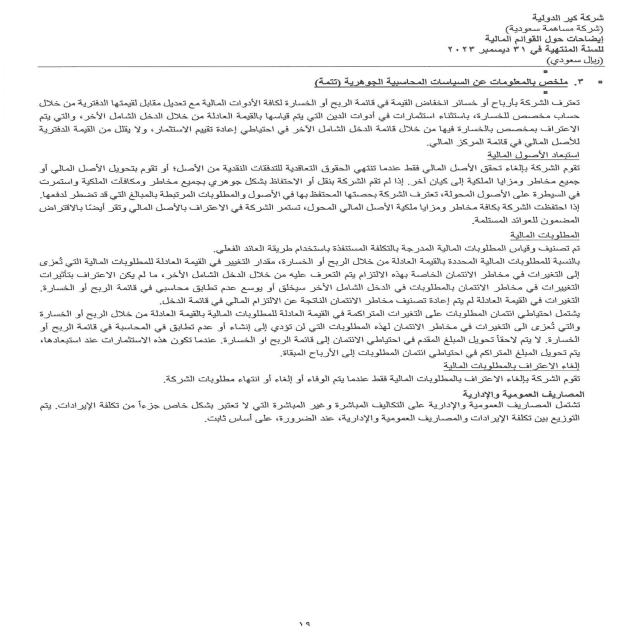notes: (484, 33, 606, 45)
text: (20, 74, 598, 445)
